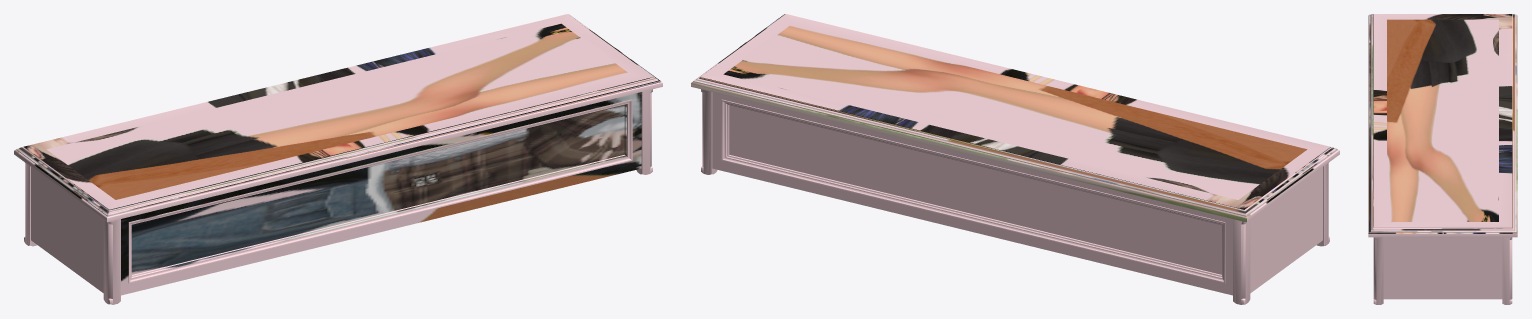
Rendered from stand_1.fbx.
The picture shows the model from 3 angles, left to right: view 1: azimuth 30°, elevation 25°; view 2: azimuth 150°, elevation 25°; view 3: azimuth 270°, elevation 25°; orthographic projection. The views are drawn at different scales.
Visible parts, largest first — view 1: Cube_2_2.008; view 2: Cube_2_2.008; view 3: Cube_2_2.008.
Boxes of the visible parts, box(x1,y1,x2,y2) form: Cube_2_2.008: box(14, 14, 662, 304); Cube_2_2.008: box(691, 14, 1339, 304); Cube_2_2.008: box(1368, 14, 1517, 304).
Bounding box in the file's own units: 225 × 37.19 × 65.21.
